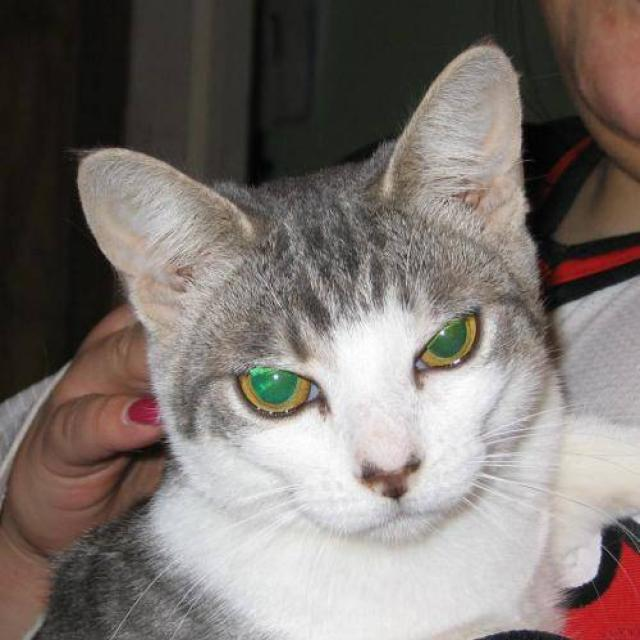cat: (13, 34, 639, 638)
